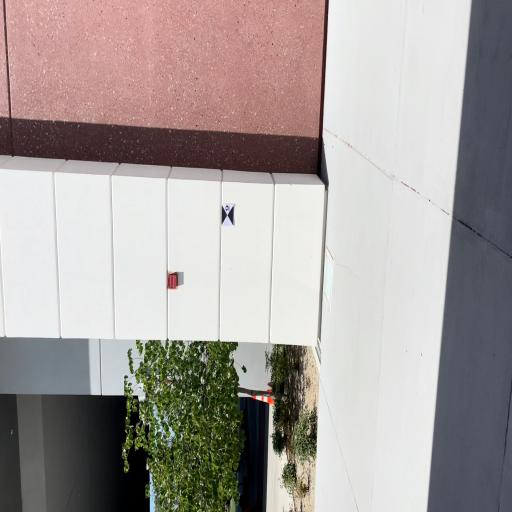target9: (222, 204, 234, 225)
